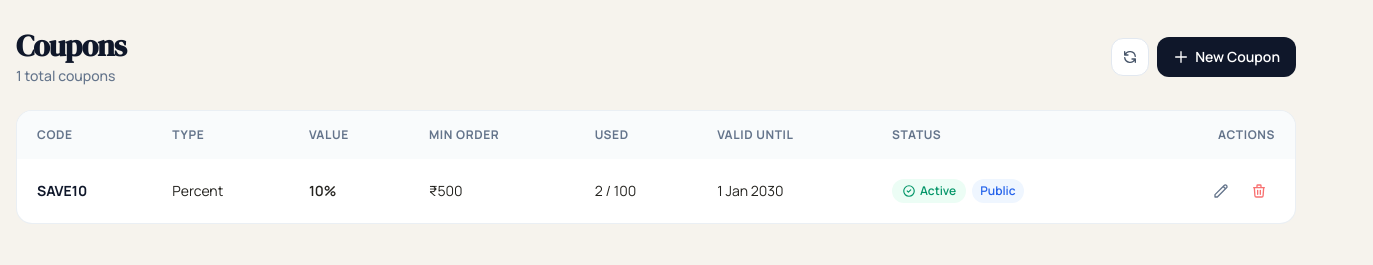
Scenario: AdminCoupons Component › deletes a coupon after confirmation
Click the 5th button: {"x": 1259, "y": 191} [1243, 175, 1275, 207]
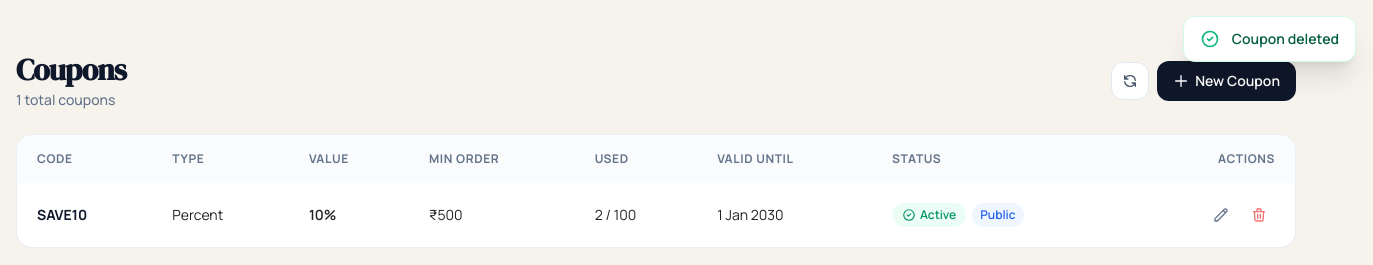
expect the text "Coupon deleted" is shown: met, box [1232, 29, 1339, 49]
